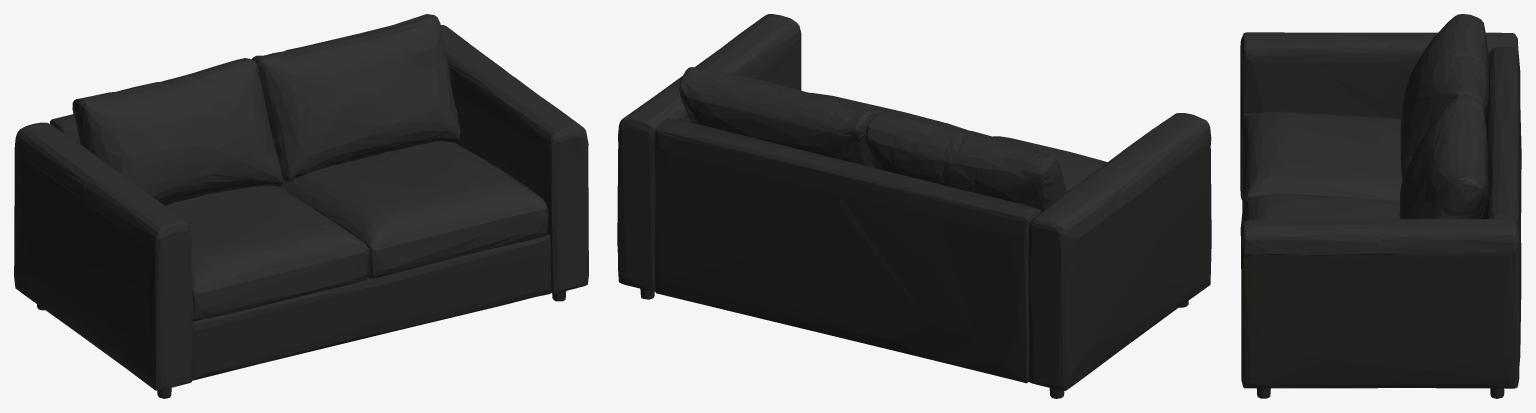
The picture shows the model from 3 angles, left to right: view 1: azimuth 30°, elevation 25°; view 2: azimuth 150°, elevation 25°; view 3: azimuth 270°, elevation 25°; orthographic projection. The views are drawn at different scales.
Visible parts, largest first — view 1: ProcessedGeometry; view 2: ProcessedGeometry; view 3: ProcessedGeometry.
Boxes of the visible parts, <box> form: ProcessedGeometry: <box>14,14,588,398</box>; ProcessedGeometry: <box>617,14,1211,398</box>; ProcessedGeometry: <box>1240,14,1521,398</box>.
Bounding box in the file's own units: 1.71 × 0.8 × 0.98.
Materials: 2 (2 with a texture image).
